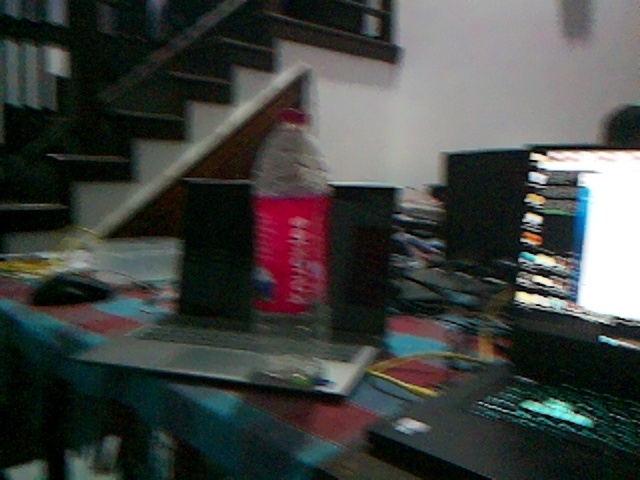bottle: (245, 106, 333, 383)
